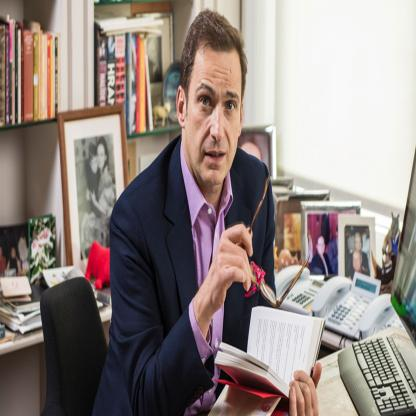person: (176, 3, 247, 199)
